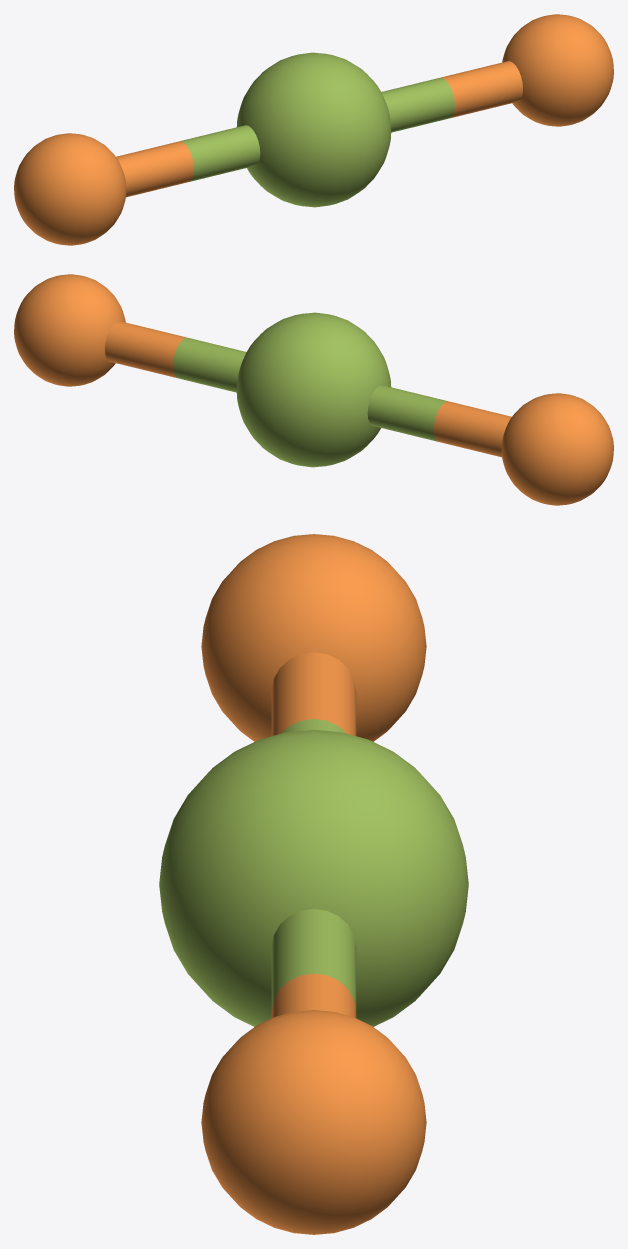
The picture shows the model from 3 angles, top to bottom: view 1: azimuth 30°, elevation 25°; view 2: azimuth 150°, elevation 25°; view 3: azimuth 270°, elevation 25°; orthographic projection. The views are drawn at different scales.
Parts seen in each view (by area): view 1: Text001; view 2: Text001; view 3: Text001.
Boxes of the visible parts, <box> form: Text001: <box>14,14,613,245</box>; Text001: <box>14,274,613,505</box>; Text001: <box>159,534,468,1234</box>.
Size of the model in its own units: 48 by 11 by 11.
1 material, 1 textured.
